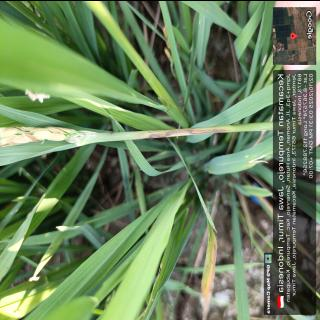Busuk-Pelepah: (147, 124, 235, 140)
